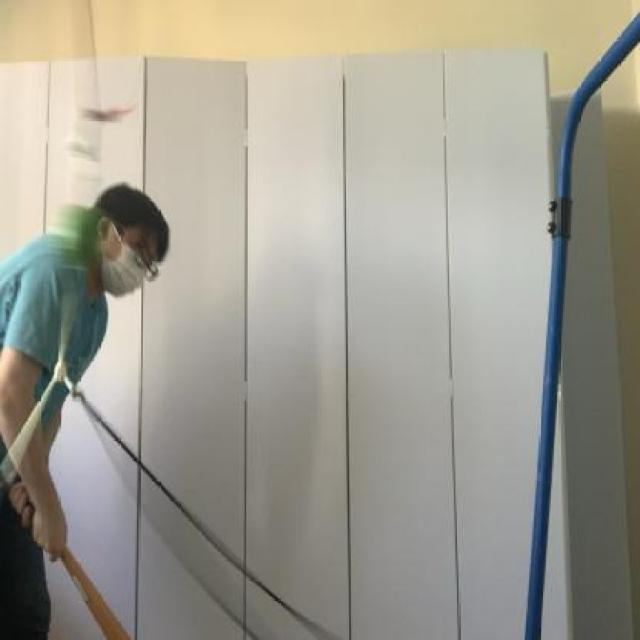baseball: (48, 187, 110, 273)
